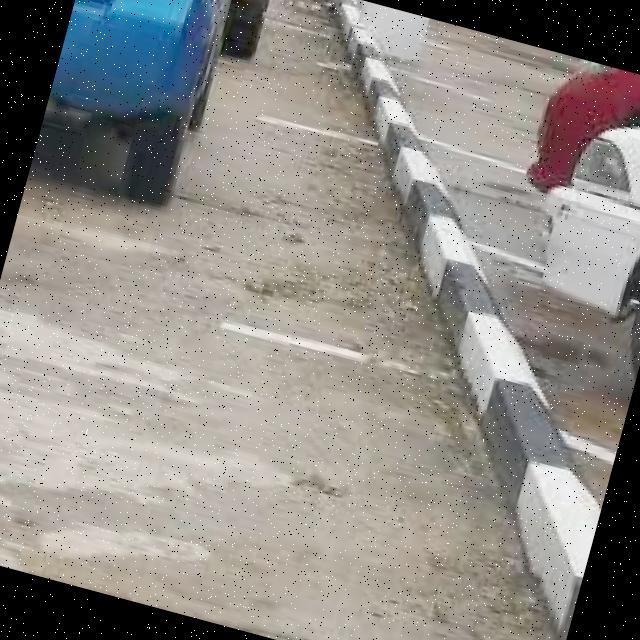curb: (323, 1, 595, 640)
